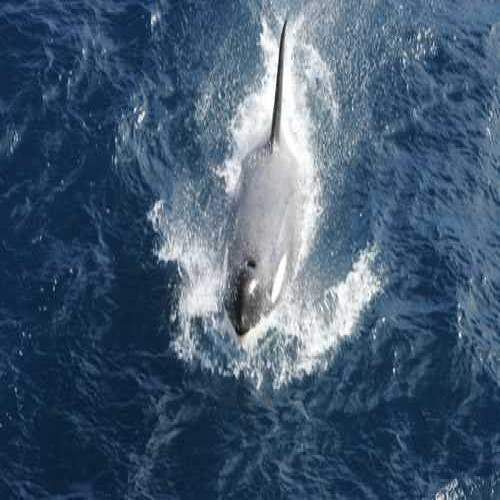killer_whale-endangered: (209, 8, 330, 344)
